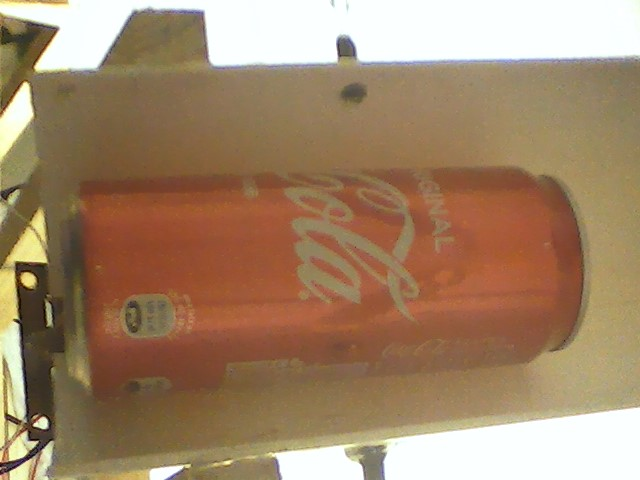lata: (63, 159, 594, 409)
